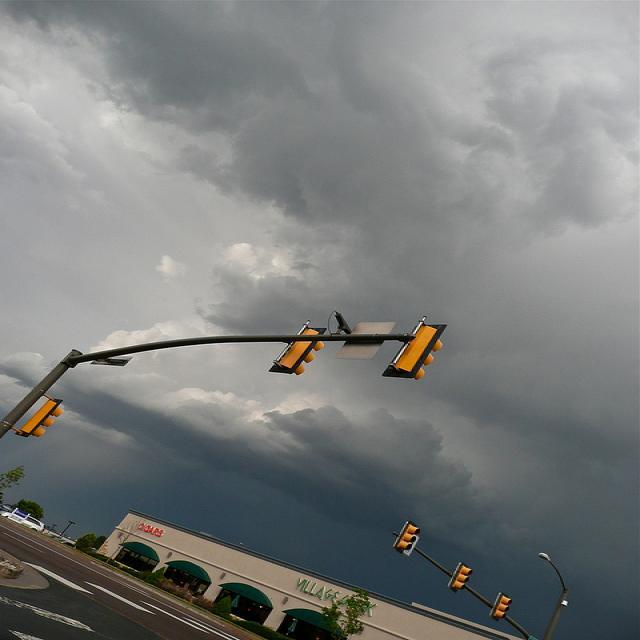Vehicle: (0, 510, 45, 534)
